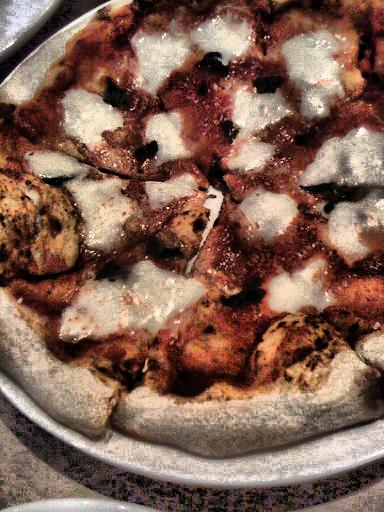pizza: (3, 6, 384, 447)
